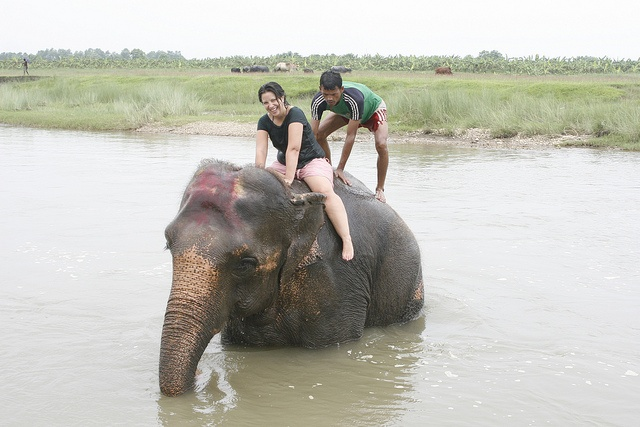elephant: (157, 154, 426, 399)
